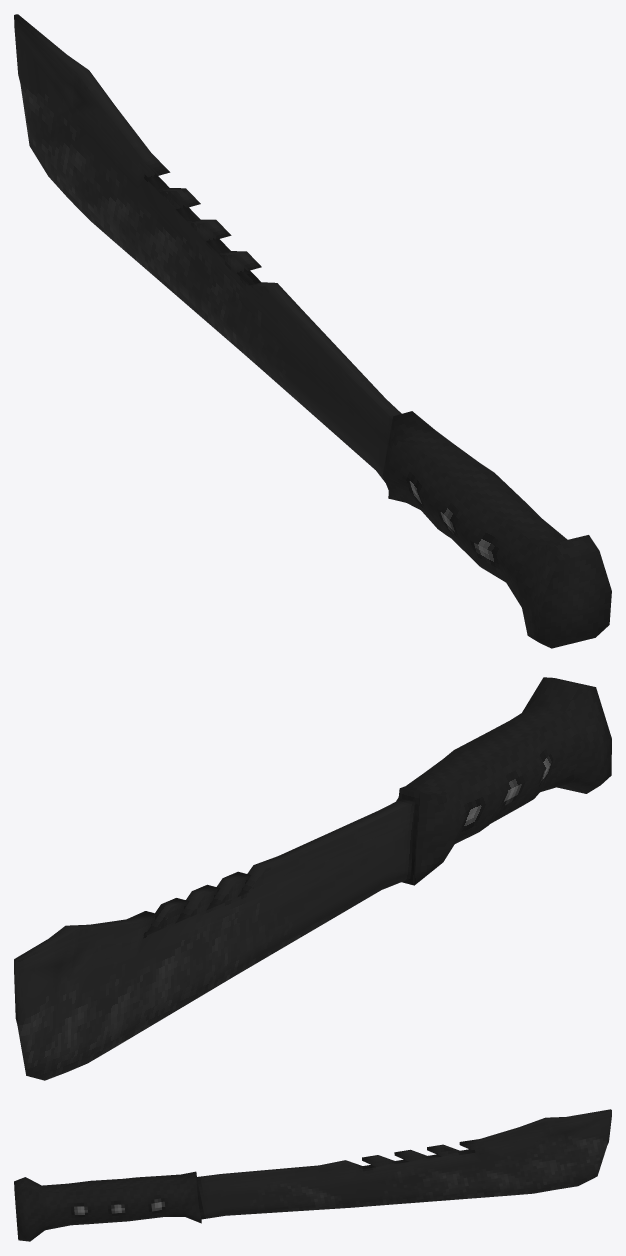
File: Machete2.glb
3 views of the same model, one above another, from view 1: azimuth 30°, elevation 25°; view 2: azimuth 150°, elevation 25°; view 3: azimuth 270°, elevation 25° (orthographic). The views are drawn at different scales.
Visible parts, largest first — view 1: Cube.001; view 2: Cube.001; view 3: Cube.001.
Boxes of the visible parts, left/top/right/bottom form: Cube.001: left=14, top=14, right=611, bottom=648; Cube.001: left=14, top=677, right=611, bottom=1080; Cube.001: left=14, top=1109, right=611, bottom=1241.
Size of the model in its own units: 1.84 by 5.39 by 23.51.
1 material, 1 textured.
